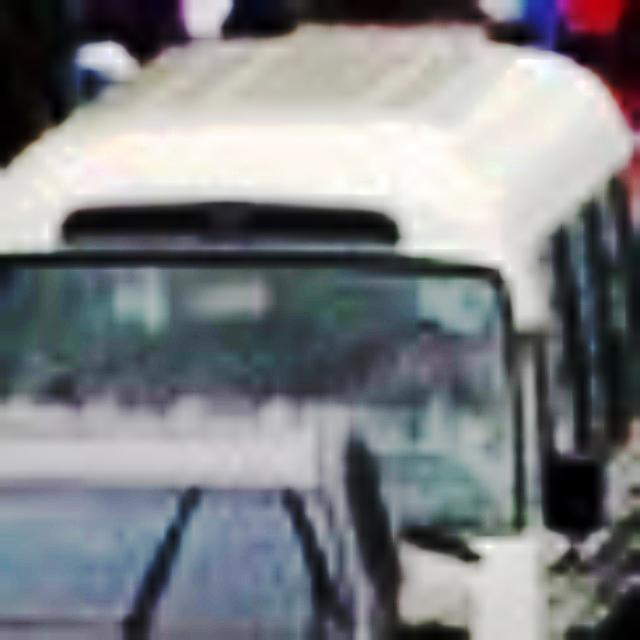Car: (0, 0, 639, 639), (0, 402, 417, 629)
